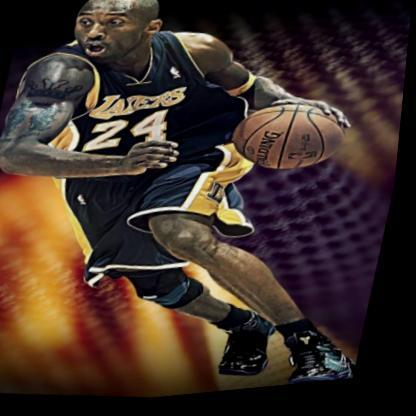basketball: (228, 99, 355, 186)
